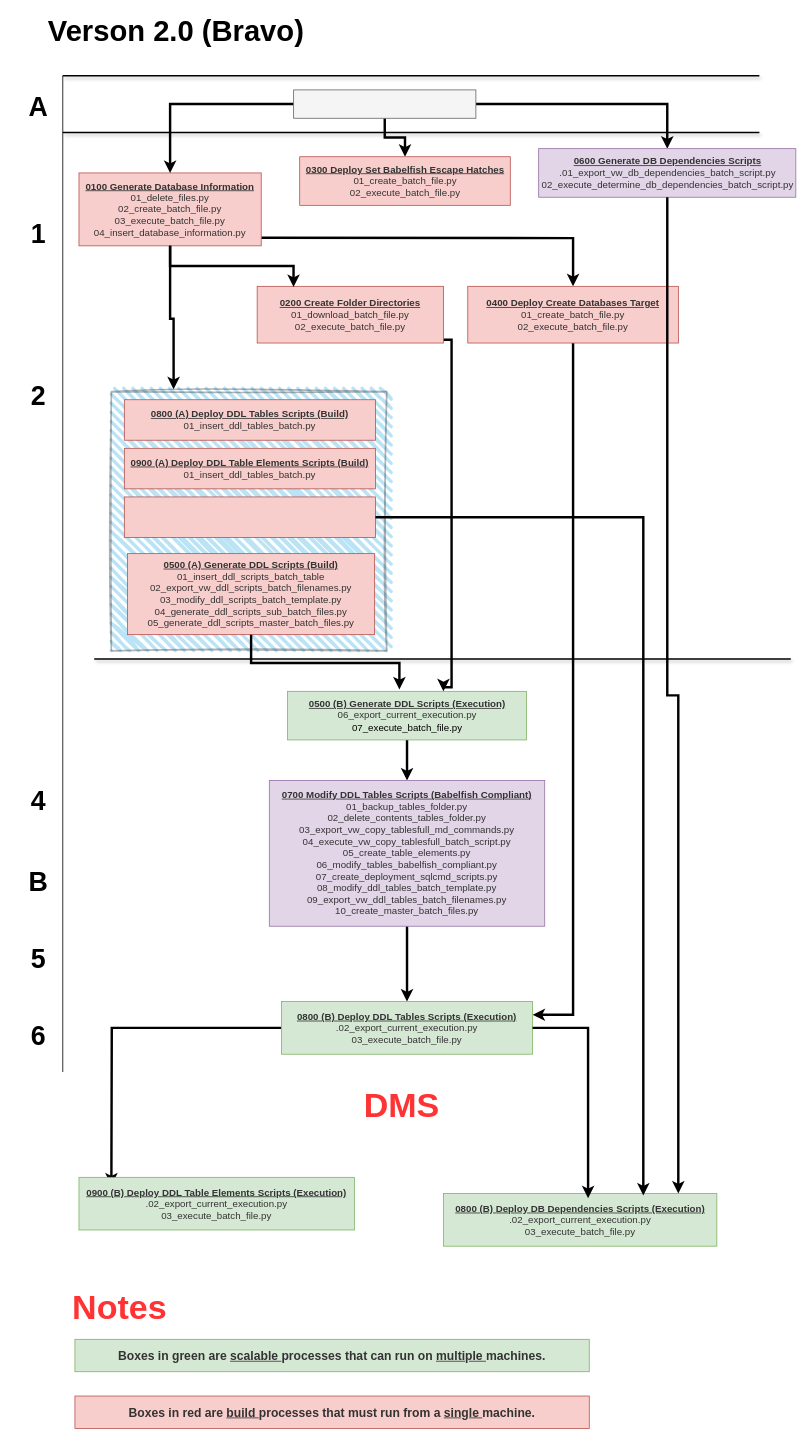
This 811x1443 diagram has some shape labels left out. Here are the shapes that lost their labels. From the top down, the centre of each, then its label:
pixel 384 103: Input Data Into Information Database
pixel 249 516: 1000 (A) Deploy DB Dependencies Scripts (Build) 01_insert_ddl_tables_batch.py
